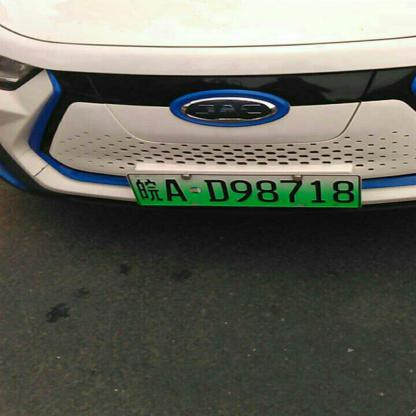lp: (126, 172, 362, 206)
